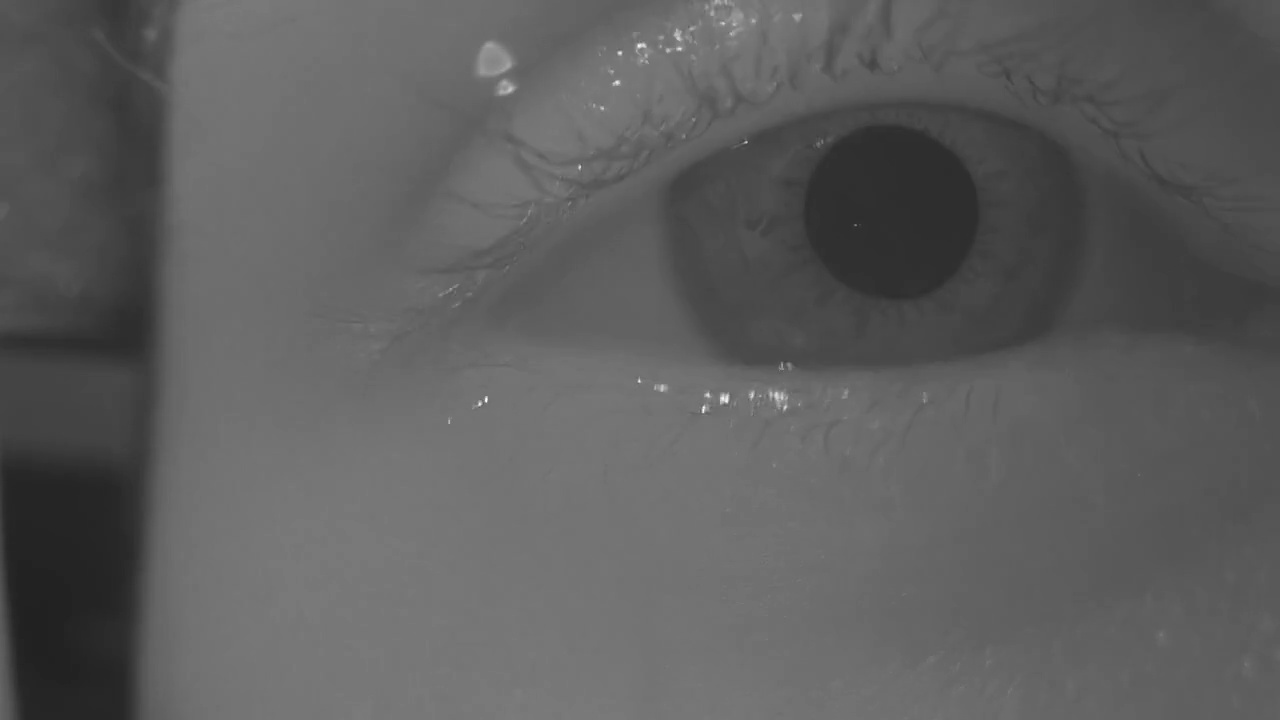pupil: (806, 125, 978, 298)
